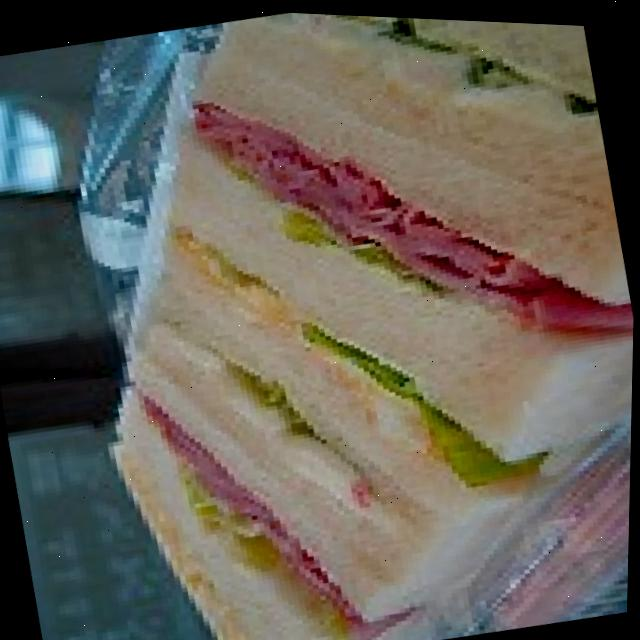三明治: (8, 1, 640, 640)
